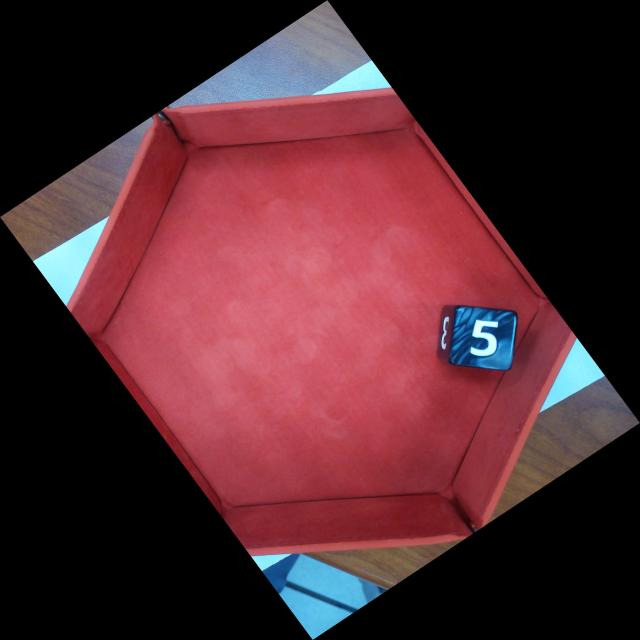dice: (458, 312, 516, 371)
